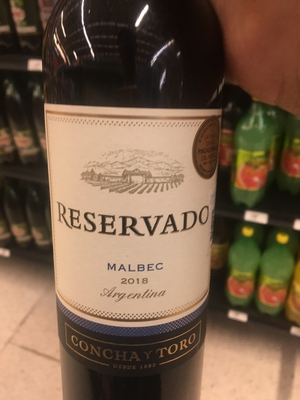reservado malbec: (43, 9, 220, 400)
